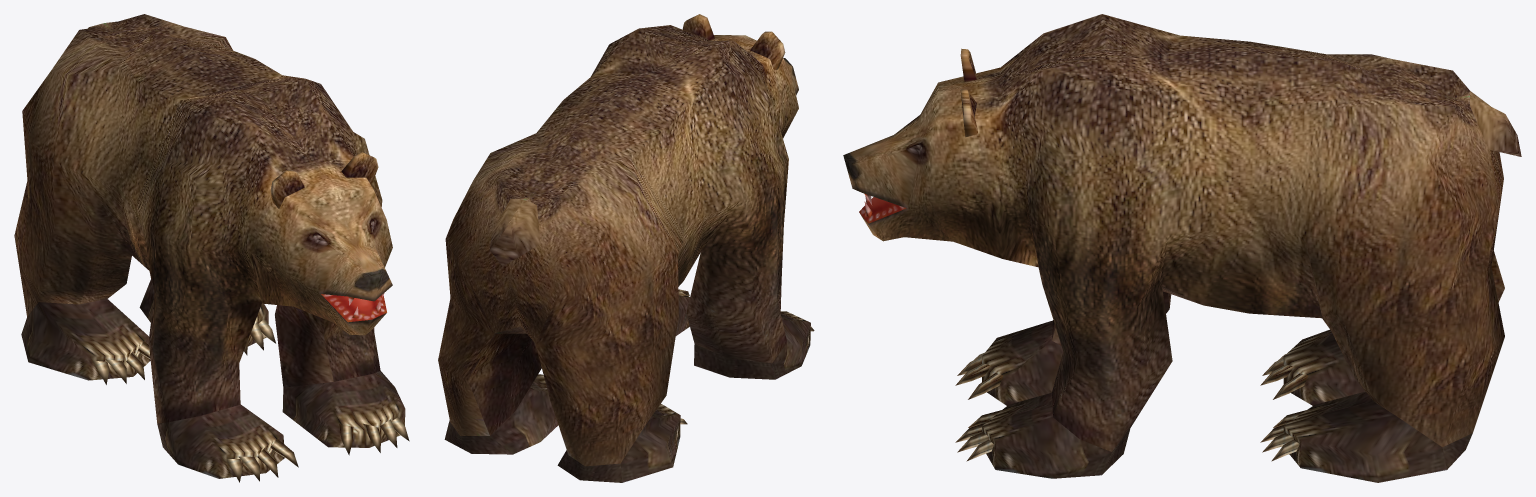
Rendered from warbear_binary.fbx.
3 views of the same model, side by side, from view 1: azimuth 30°, elevation 25°; view 2: azimuth 150°, elevation 25°; view 3: azimuth 270°, elevation 25° (orthographic). The views are drawn at different scales.
Visible parts, largest first — view 1: Warbear; view 2: Warbear; view 3: Warbear.
Boxes of the visible parts, box(x1,y1,x2,y2) form: Warbear: box(14, 14, 409, 482); Warbear: box(438, 14, 814, 482); Warbear: box(843, 14, 1521, 482).
Bounding box in the file's own units: 64.35 × 88.22 × 142.
